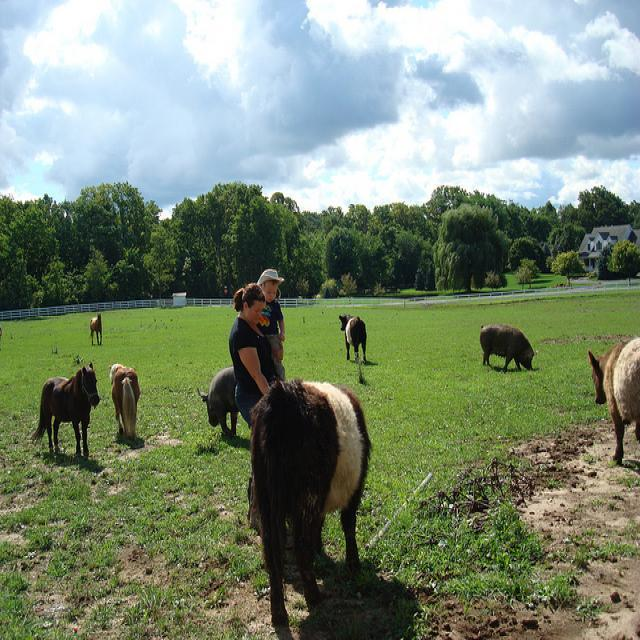cow: (250, 377, 370, 623), (586, 337, 639, 459), (337, 312, 365, 361)
